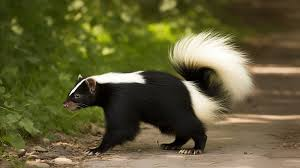skunk: (61, 28, 255, 154)
